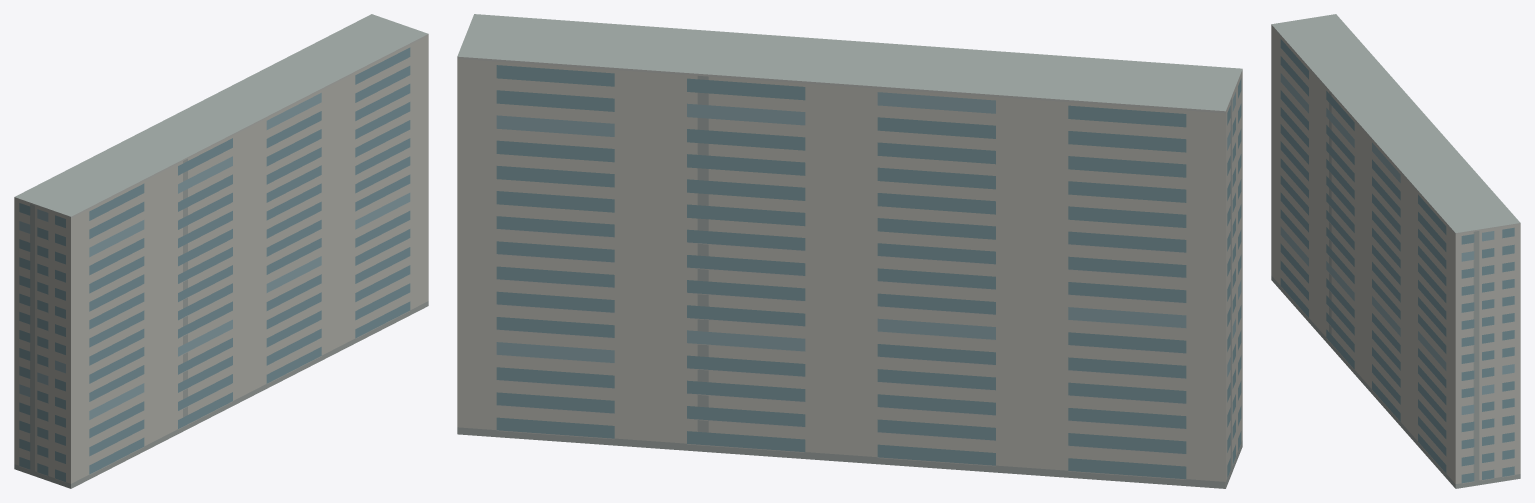
Rendered from residential-32d5bc22-dee0-4d3f-8eca-803e7ed1bbbd.glb.
The picture shows the model from 3 angles, left to right: view 1: azimuth 30°, elevation 25°; view 2: azimuth 150°, elevation 25°; view 3: azimuth 270°, elevation 25°; orthographic projection. The views are drawn at different scales.
Visible parts, largest first — view 1: residential-32d5bc22-dee0-4d3f-8eca-803e7ed1bbbd.tmp; view 2: residential-32d5bc22-dee0-4d3f-8eca-803e7ed1bbbd.tmp; view 3: residential-32d5bc22-dee0-4d3f-8eca-803e7ed1bbbd.tmp.
Boxes of the visible parts, box(x1,y1,x2,y2) form: residential-32d5bc22-dee0-4d3f-8eca-803e7ed1bbbd.tmp: box(14, 14, 428, 488); residential-32d5bc22-dee0-4d3f-8eca-803e7ed1bbbd.tmp: box(457, 14, 1242, 488); residential-32d5bc22-dee0-4d3f-8eca-803e7ed1bbbd.tmp: box(1271, 14, 1520, 488).
Size of the model in its own units: 84.1 by 45.75 by 40.43.
